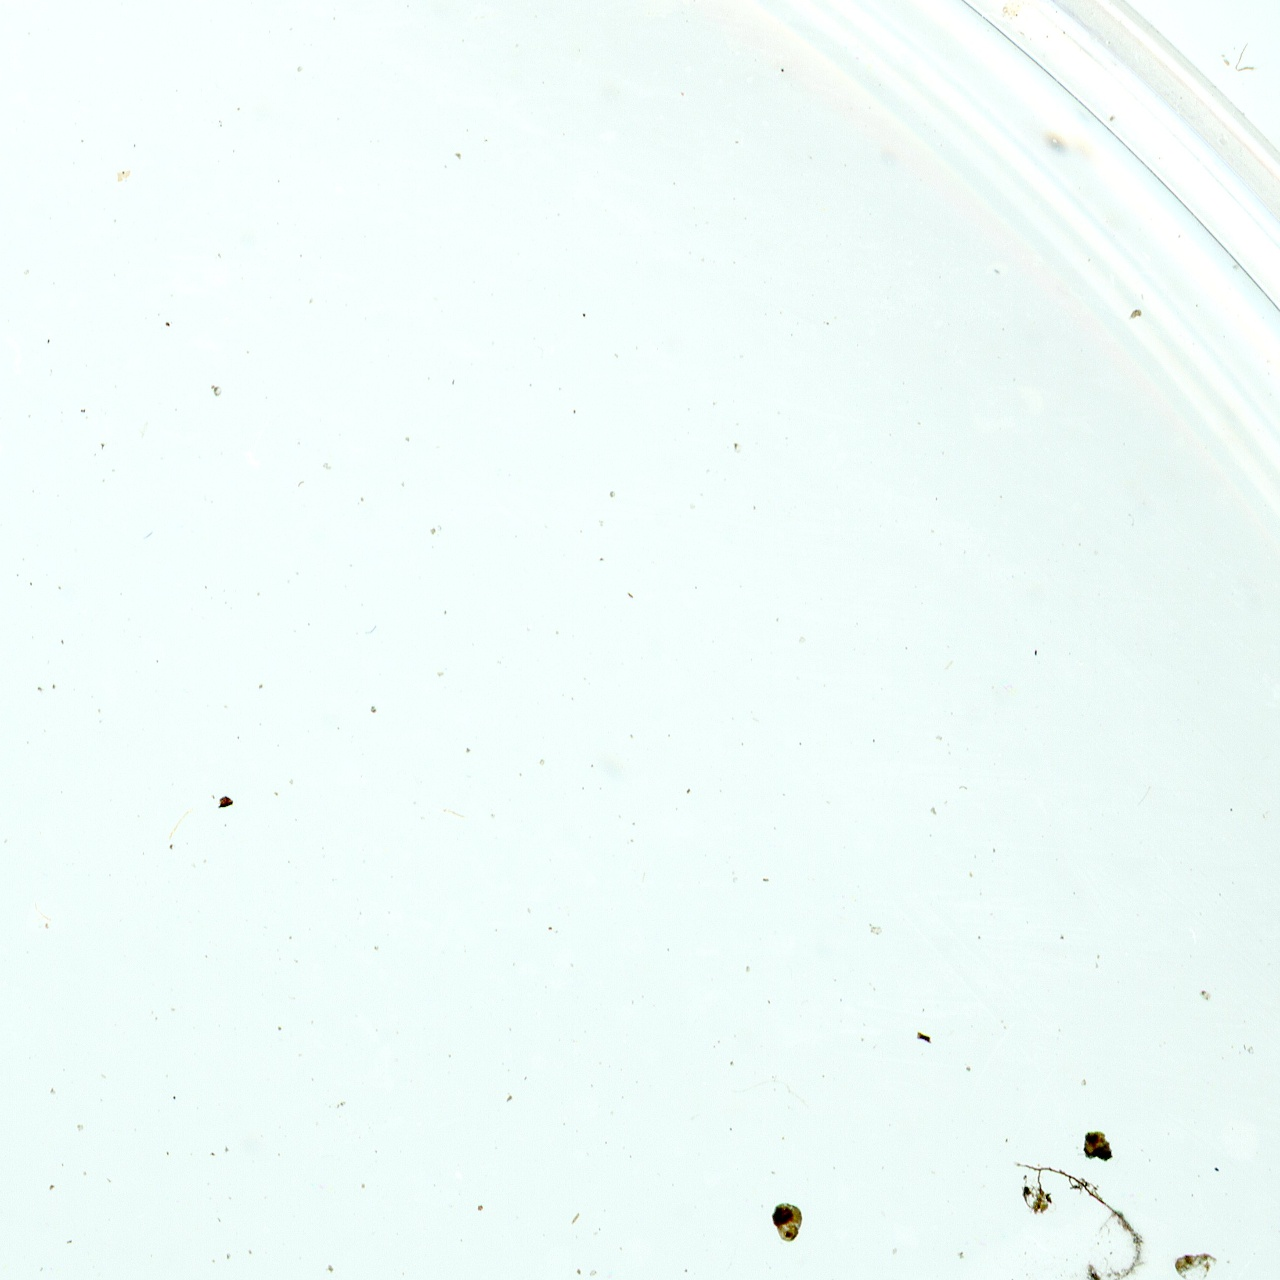arthropod: (771, 1197, 803, 1243)
